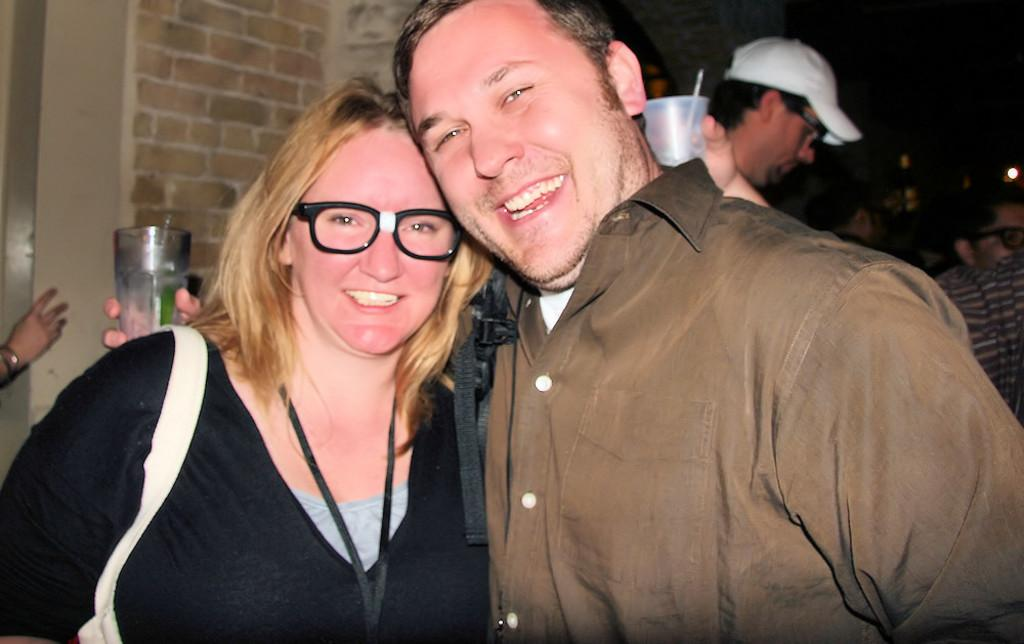Hat: (726, 36, 860, 150)
